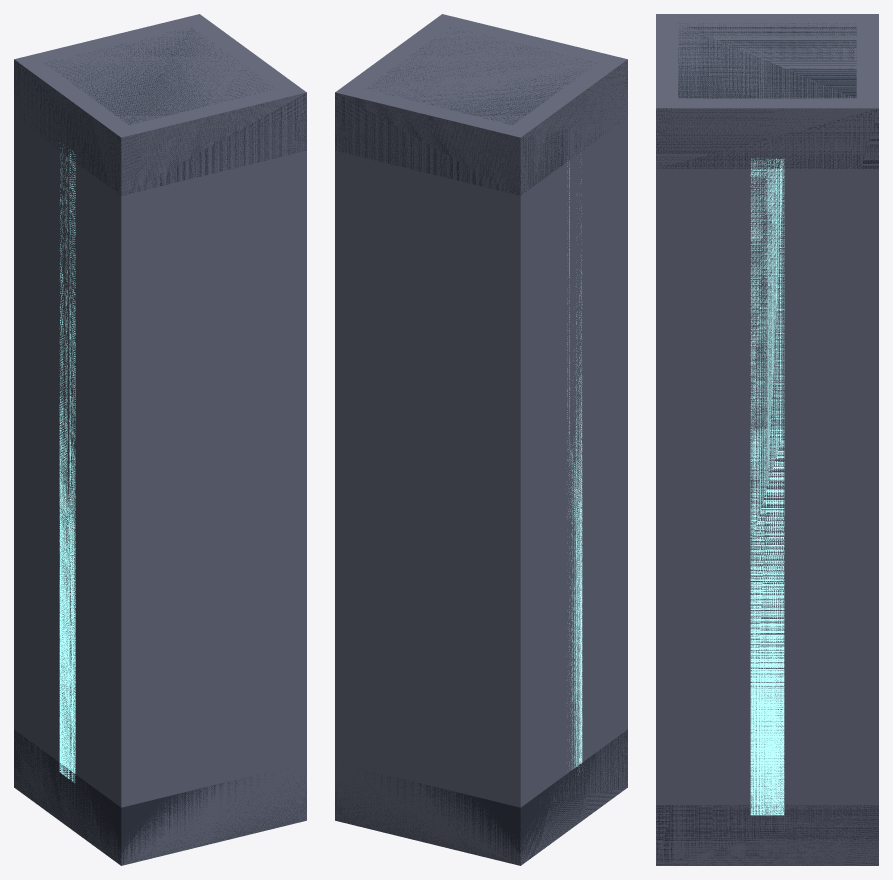
The model's file is SM_Pillar.fbx.
The picture shows the model from 3 angles, left to right: view 1: azimuth 30°, elevation 25°; view 2: azimuth 150°, elevation 25°; view 3: azimuth 270°, elevation 25°; orthographic projection. The views are drawn at different scales.
Parts seen in each view (by area): view 1: SM_Pillar; view 2: SM_Pillar; view 3: SM_Pillar.
Boxes of the visible parts, <box> form: SM_Pillar: <box>14,14,306,865</box>; SM_Pillar: <box>335,14,627,865</box>; SM_Pillar: <box>656,14,878,865</box>.
Size of the model in its own units: 80 by 80 by 300.
